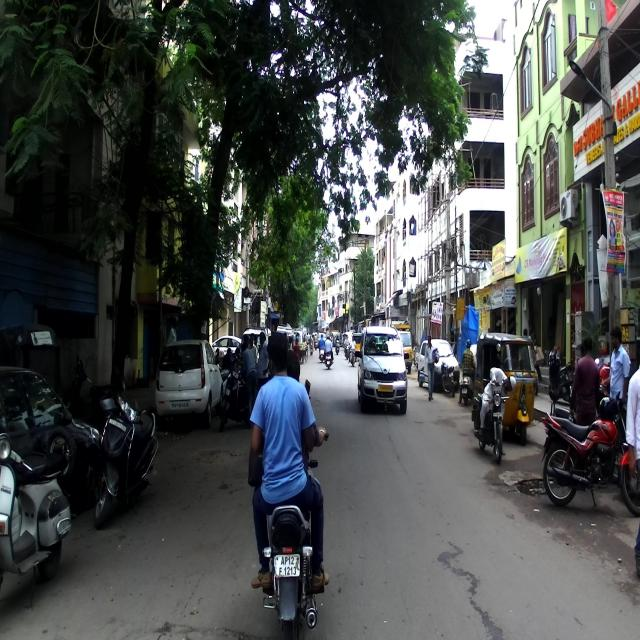autorickshaw: (474, 331, 538, 447)
car: (154, 339, 223, 430), (356, 322, 409, 412)
motorcycle: (261, 428, 329, 639), (539, 388, 640, 516), (468, 380, 508, 464)
scooter: (0, 424, 76, 609), (92, 375, 162, 529)
